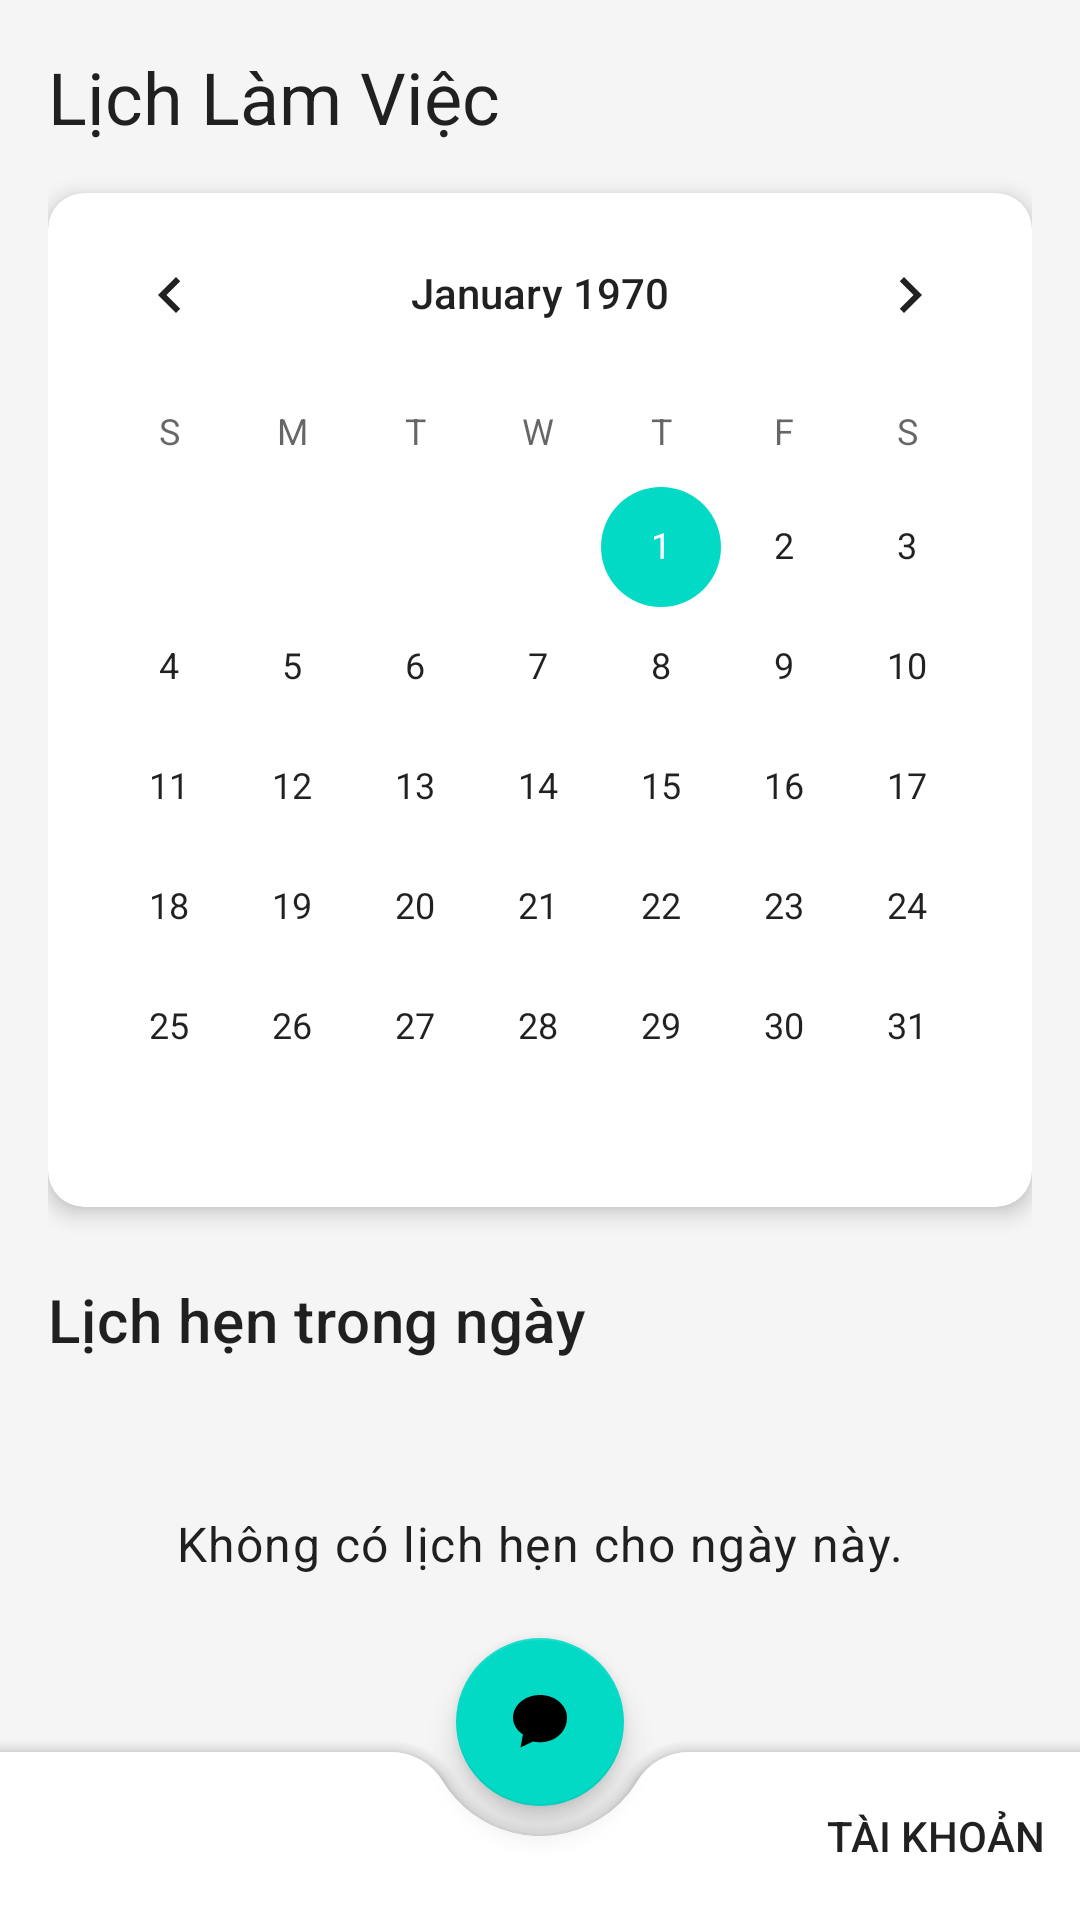

Icons on this 1080x1920 Android screen, each with the point to tap as [x,y]:
Chat: [540,1752]
